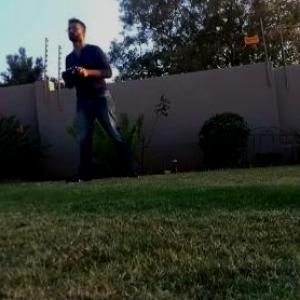follow: (55, 11, 138, 190)
